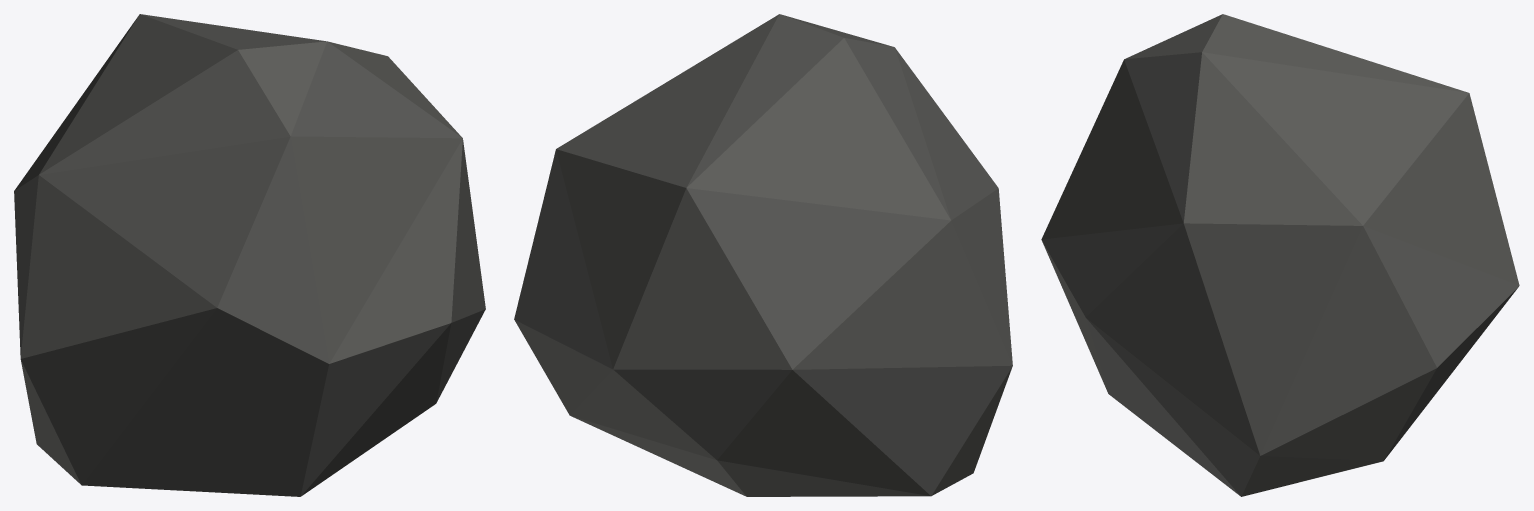
File: SM_Envr_Nature_Rock_04.fbx
The picture shows the model from 3 angles, left to right: view 1: azimuth 30°, elevation 25°; view 2: azimuth 150°, elevation 25°; view 3: azimuth 270°, elevation 25°; orthographic projection. The views are drawn at different scales.
Parts seen in each view (by area): view 1: SM_Envr_Nature_Rock_04; view 2: SM_Envr_Nature_Rock_04; view 3: SM_Envr_Nature_Rock_04.
Boxes of the visible parts, x1=… form: SM_Envr_Nature_Rock_04: x1=14, y1=14, x2=485, y2=496; SM_Envr_Nature_Rock_04: x1=514, y1=14, x2=1012, y2=496; SM_Envr_Nature_Rock_04: x1=1041, y1=14, x2=1519, y2=496.
Bounding box in the file's own units: 185 × 159 × 176.
